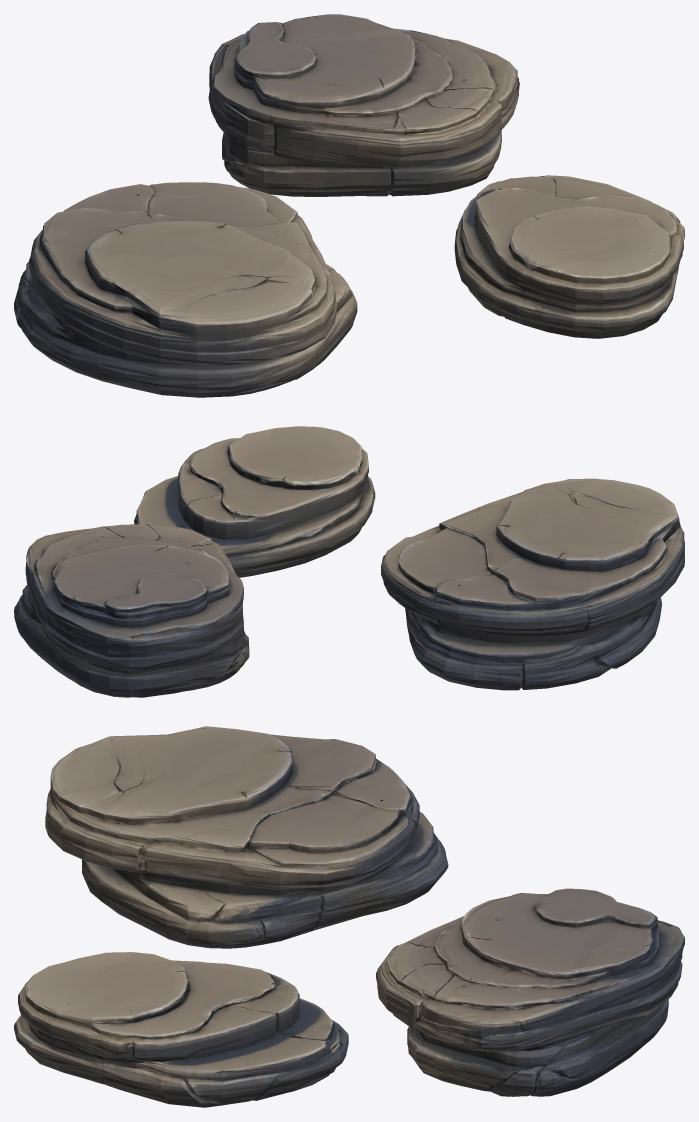
The model's file is rock.glb.
3 views of the same model, one above another, from view 1: azimuth 30°, elevation 25°; view 2: azimuth 150°, elevation 25°; view 3: azimuth 270°, elevation 25° (orthographic). The views are drawn at different scales.
Parts seen in each view (by area): view 1: tripo_node_695a7551-fdb5-47a3-9496-628111659e38; view 2: tripo_node_695a7551-fdb5-47a3-9496-628111659e38; view 3: tripo_node_695a7551-fdb5-47a3-9496-628111659e38.
Boxes of the visible parts, x1=… form: tripo_node_695a7551-fdb5-47a3-9496-628111659e38: x1=14, y1=14, x2=684, y2=397; tripo_node_695a7551-fdb5-47a3-9496-628111659e38: x1=14, y1=426, x2=684, y2=697; tripo_node_695a7551-fdb5-47a3-9496-628111659e38: x1=14, y1=726, x2=684, y2=1107.
Size of the model in its own units: 1 by 0.1761 by 0.9648.
Materials: 1 (1 with a texture image).
